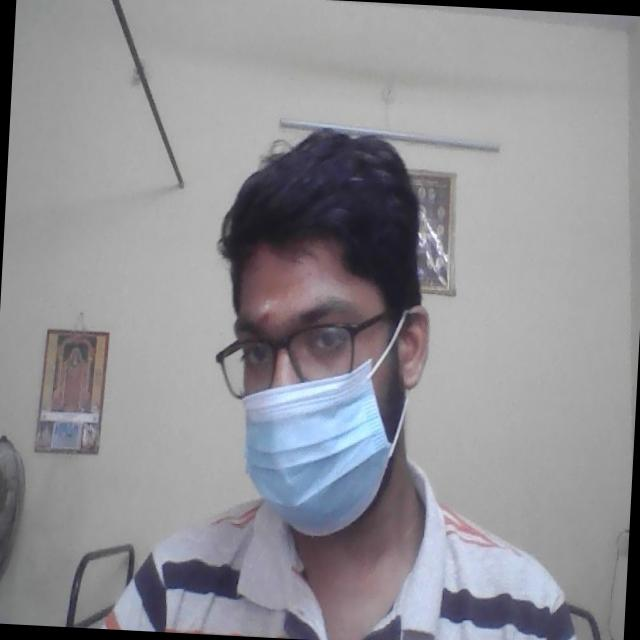Focused: (231, 260, 404, 519)
